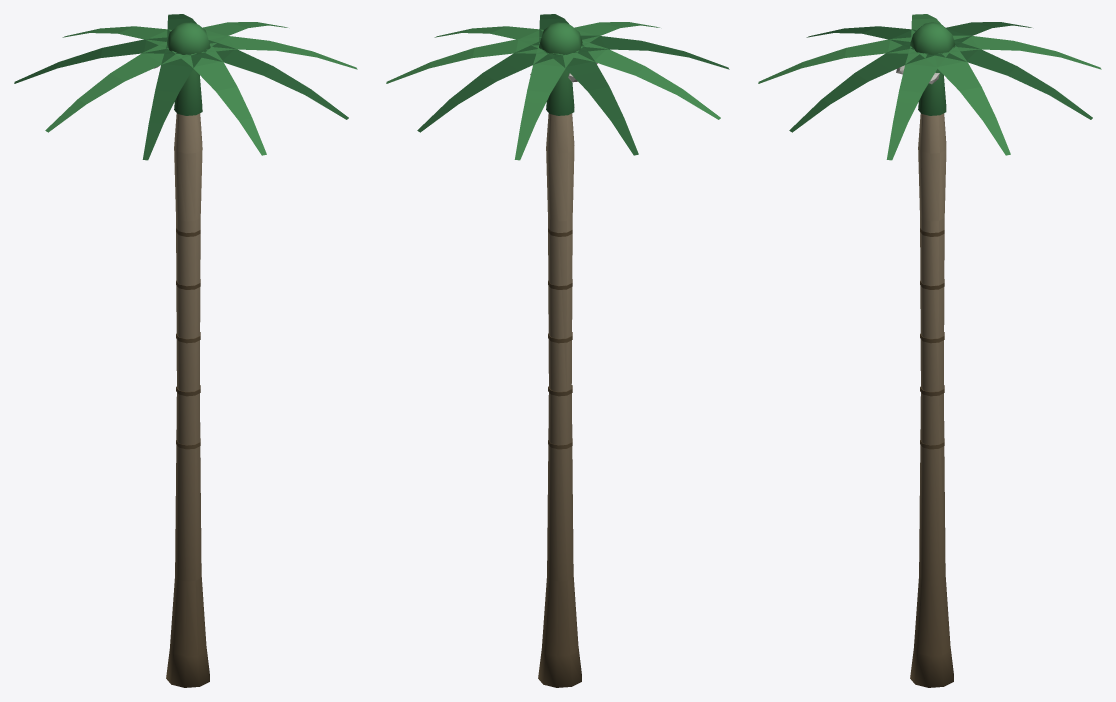
The model's file is royal_palm.glb.
3 renders of one model, left to right at view 1: azimuth 30°, elevation 25°; view 2: azimuth 150°, elevation 25°; view 3: azimuth 270°, elevation 25°, orthographic.
Visible parts, largest first — view 1: royal_palm; view 2: royal_palm; view 3: royal_palm.
Part boxes in pixels (x1=…): royal_palm: x1=14, y1=14, x2=357, y2=687; royal_palm: x1=386, y1=14, x2=729, y2=687; royal_palm: x1=758, y1=14, x2=1101, y2=687.
Bounding box in the file's own units: 3.83 × 8.02 × 3.82.
